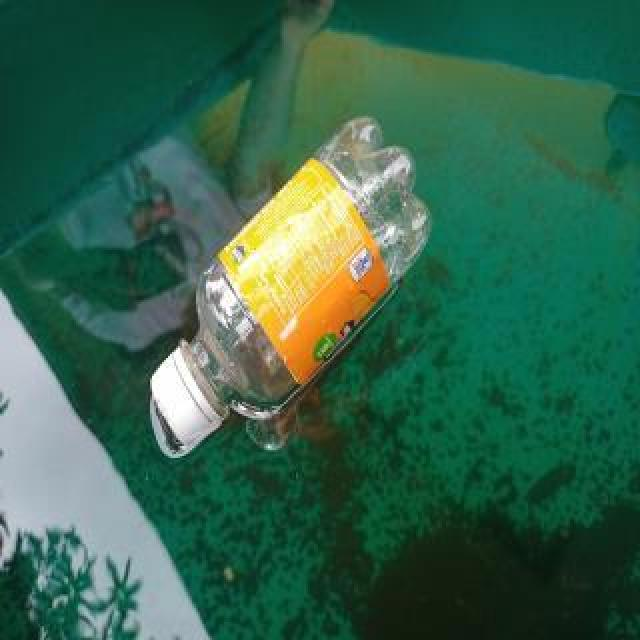bottle: (149, 114, 433, 450)
